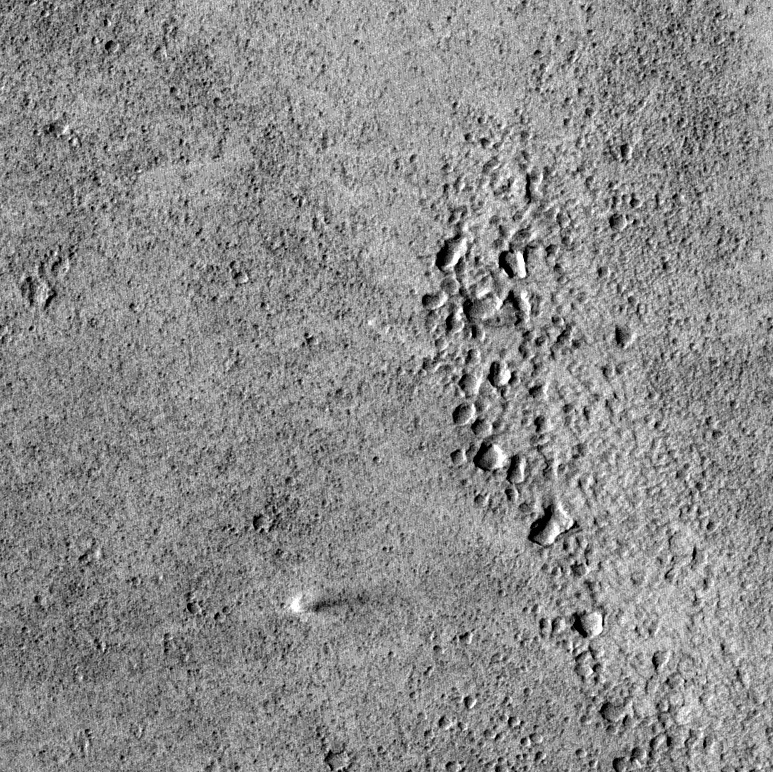dust_devil: (288, 590, 371, 615)
